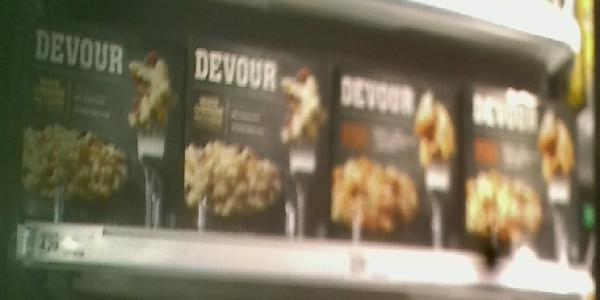pizza1: (21, 18, 179, 230), (183, 37, 331, 241), (334, 70, 468, 249), (468, 83, 586, 265)
